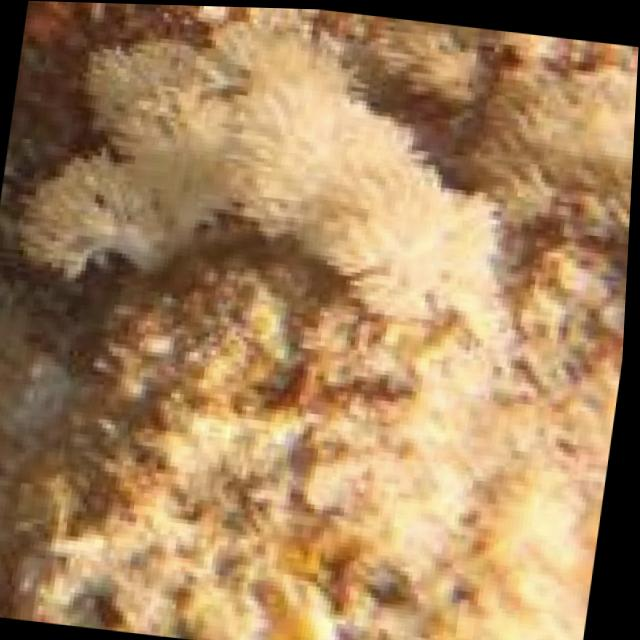Bleached Coral: (0, 0, 569, 332)
